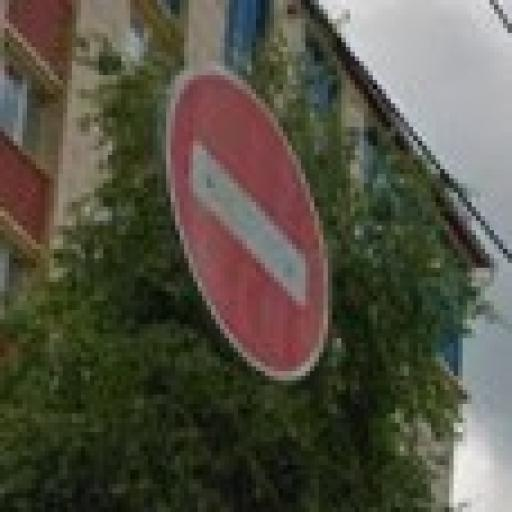traffic_sign: (168, 67, 334, 381)
